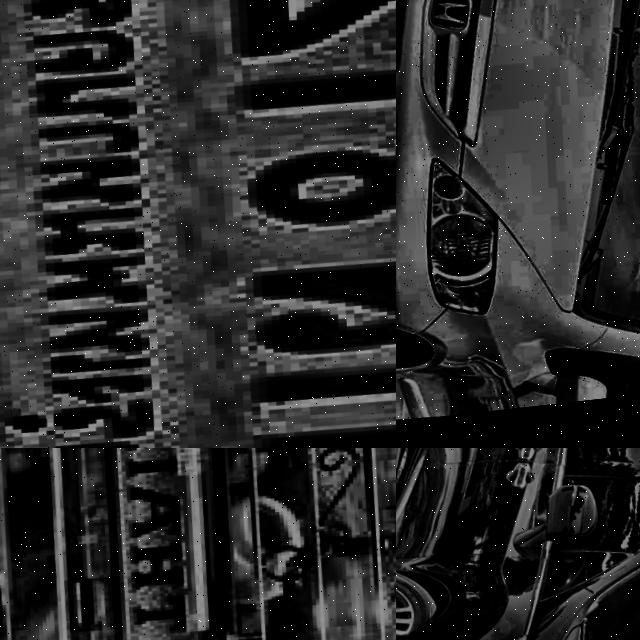license-plate: (0, 0, 396, 448)
